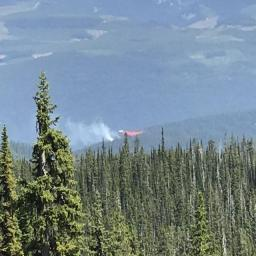Low smoke: (63, 115, 122, 149)
